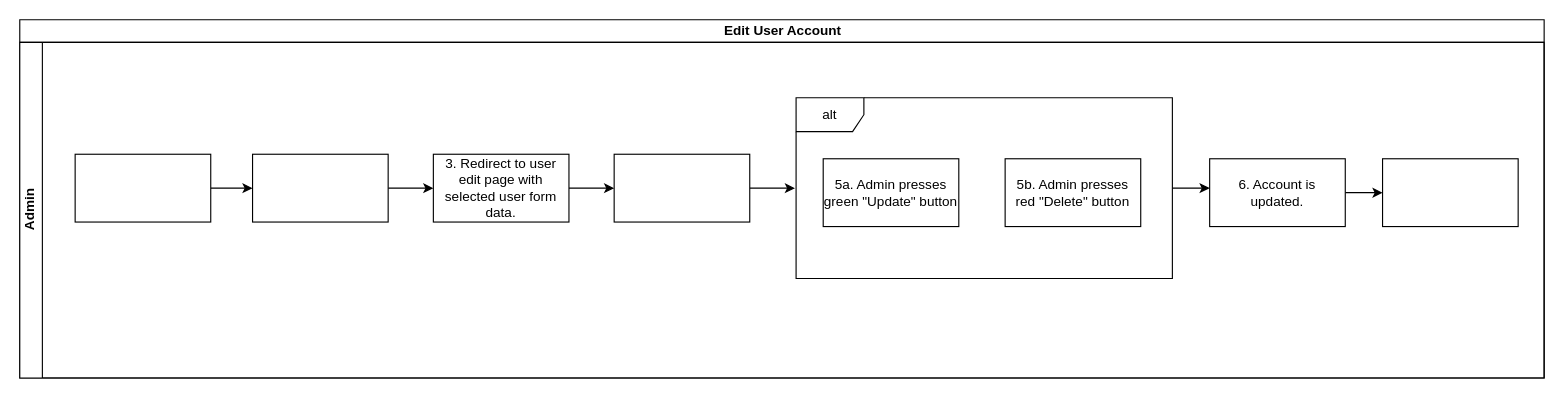
Image size: 1564x398. Some labels were removed from this diagram. Here are the shapes that lost their labels. From the top down, the centre of each, then its label:
the point at 142,187: 1. Admin has search results on web page.
the point at 319,187: 2. Admin selects edit button in student row that needs changes.
the point at 681,187: 4. Admin enters entries into form fields.
the point at 1449,192: 7. Admin sees successful update message.
